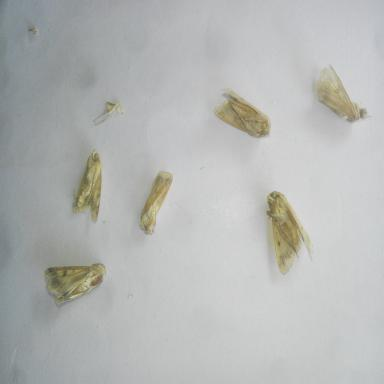abw: (264, 188, 316, 276), (210, 83, 273, 142), (314, 61, 370, 125), (42, 258, 108, 310), (137, 167, 175, 238), (71, 147, 104, 224)
